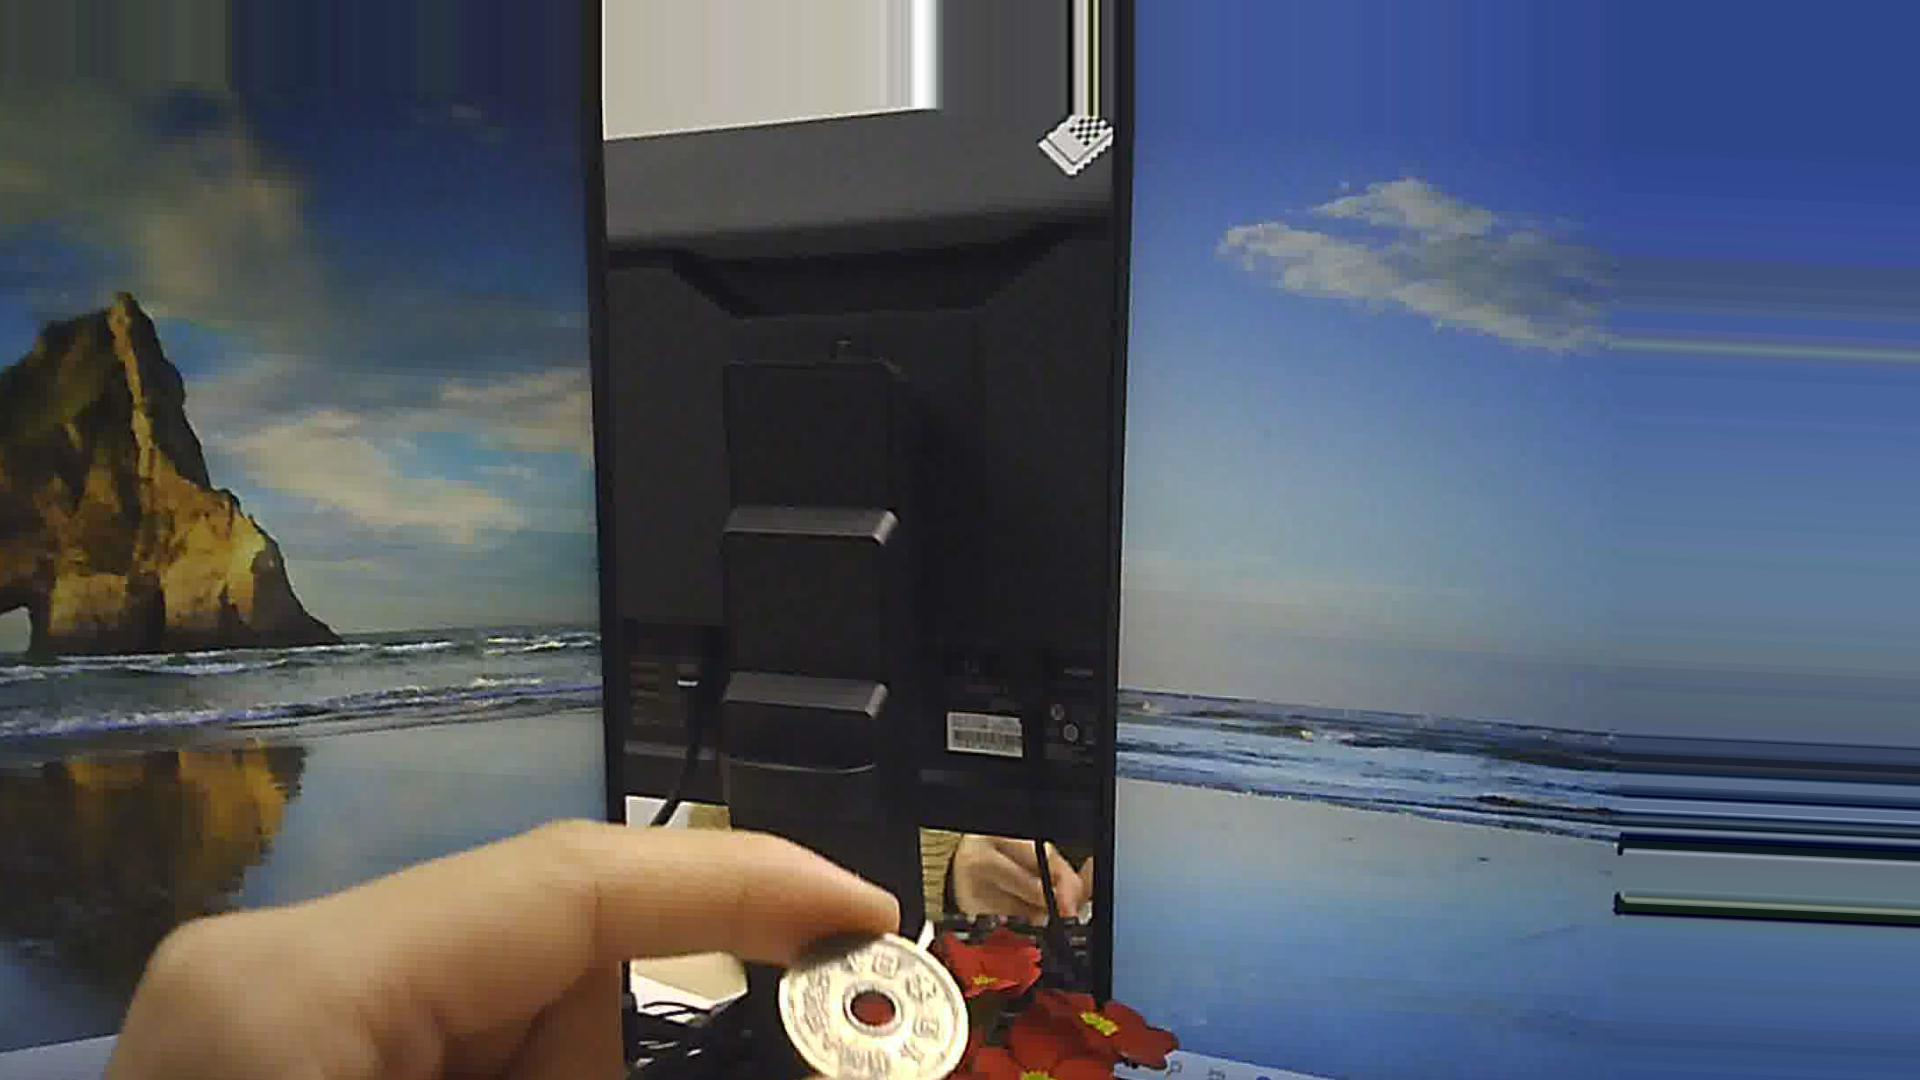5 Yen: (767, 926, 978, 1075)
